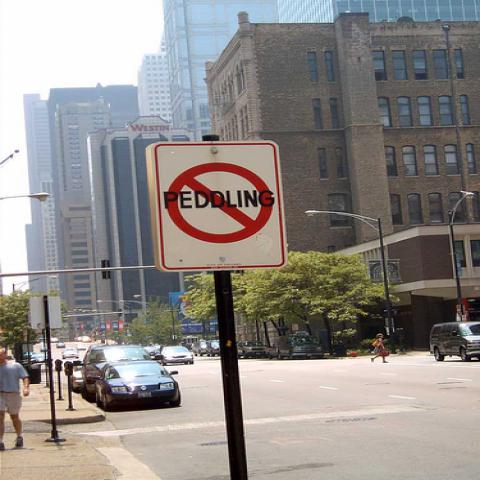car: (72, 345, 154, 401), (93, 360, 181, 411), (160, 346, 194, 365), (190, 338, 220, 357), (71, 367, 84, 395), (60, 348, 80, 360), (56, 342, 66, 349), (76, 346, 86, 350)
truck: (430, 322, 479, 362), (276, 333, 326, 359), (237, 339, 264, 359)
